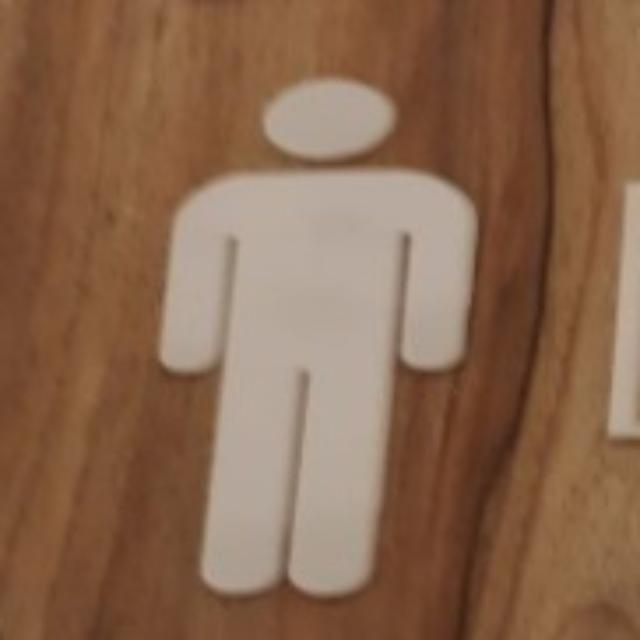mens_restroom: (158, 77, 471, 594)
